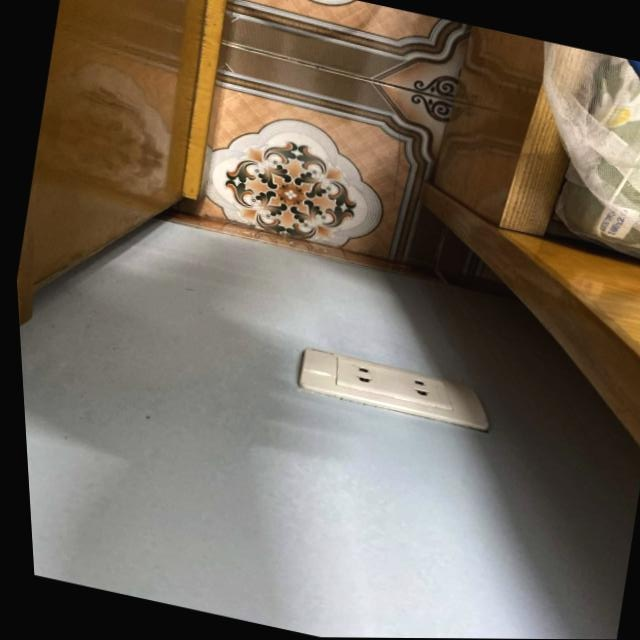outlet: (295, 345, 499, 431)
